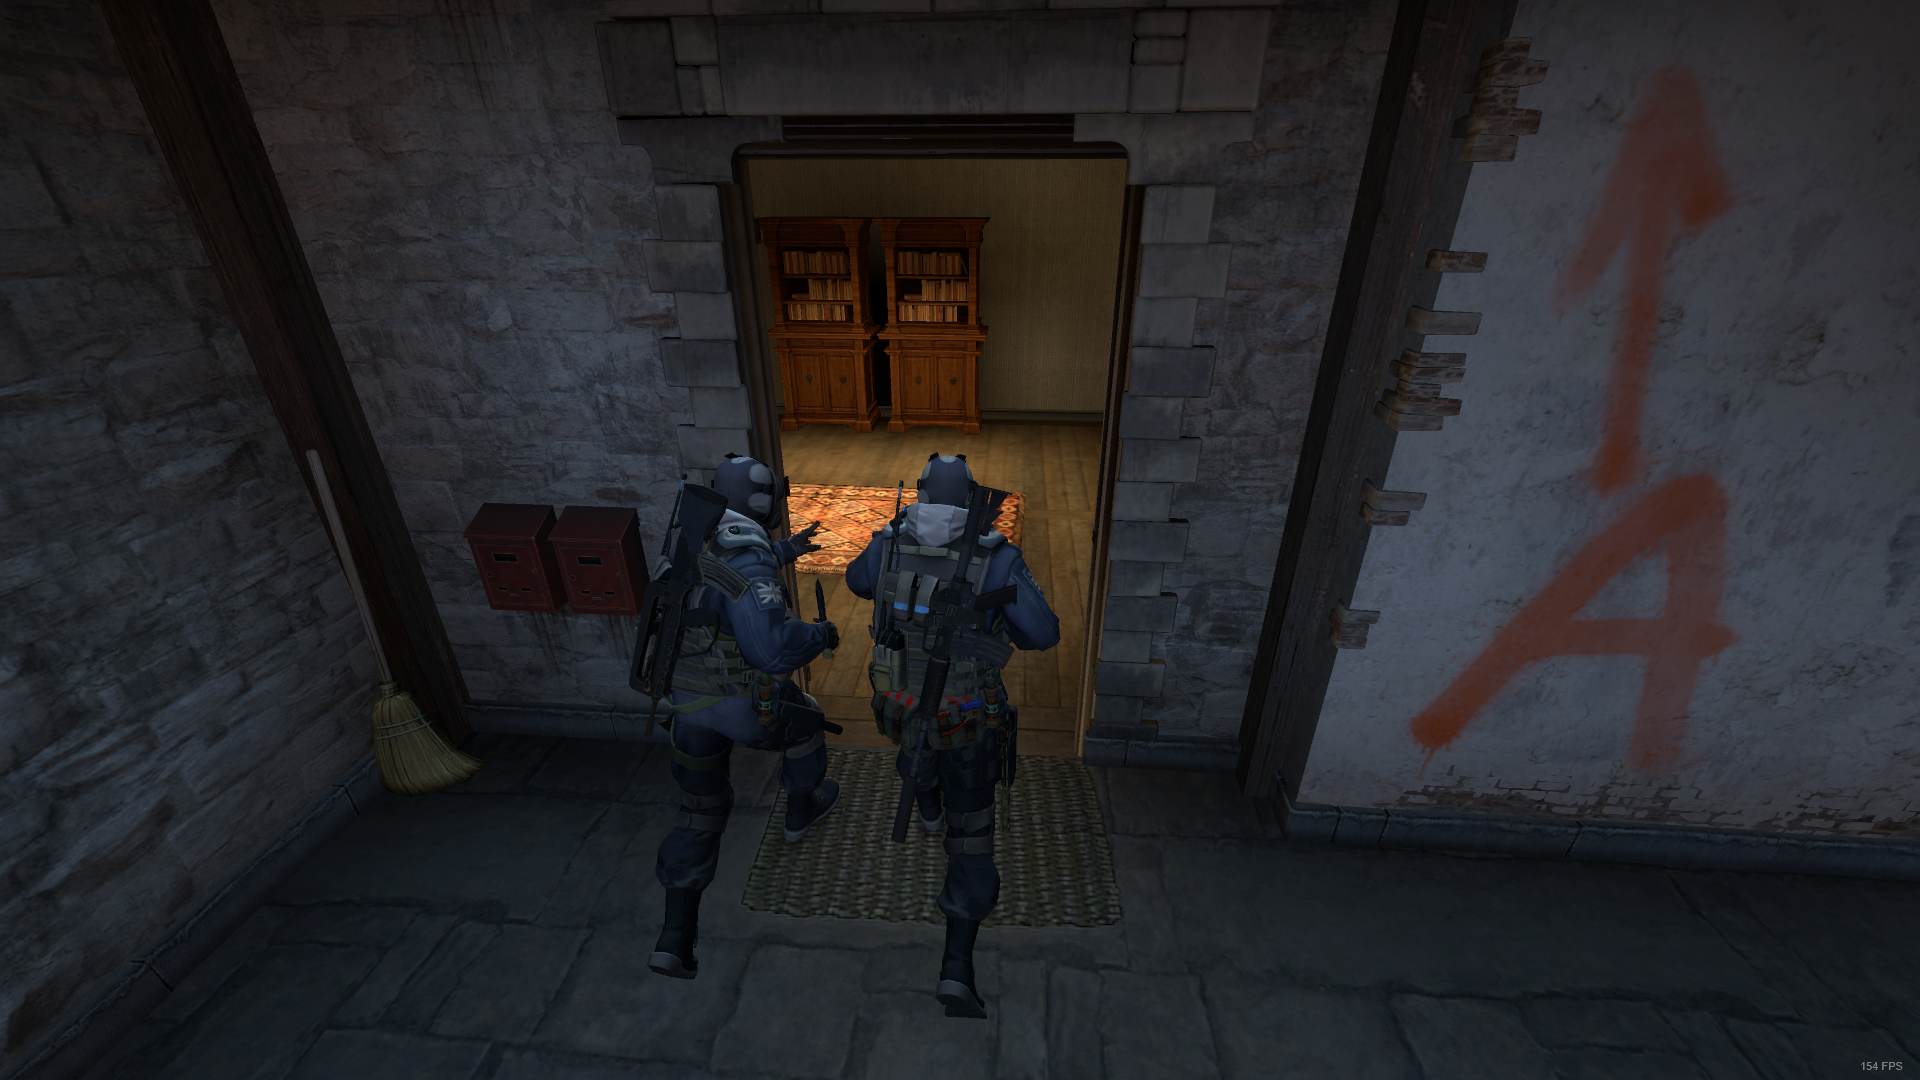ct: (845, 452, 1058, 1019), (646, 452, 839, 990)
